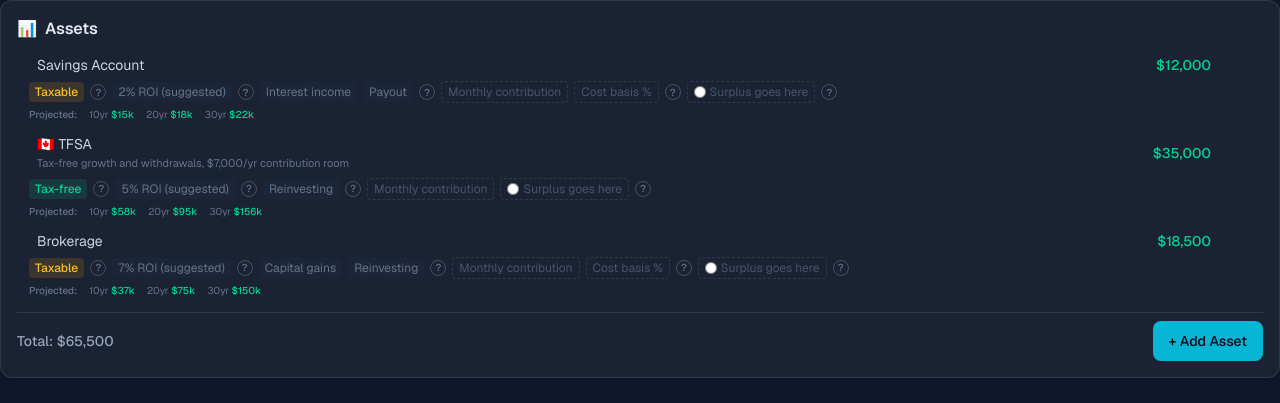
Test case: AssetEntry component › shows click-to-edit input when category is clicked
What coordinates should you click on to do the following:
click the button with aria-label "Edit category for Savings Account"
I would click on:
 (91, 65)
Its box is 29,51 -> 1095,79.
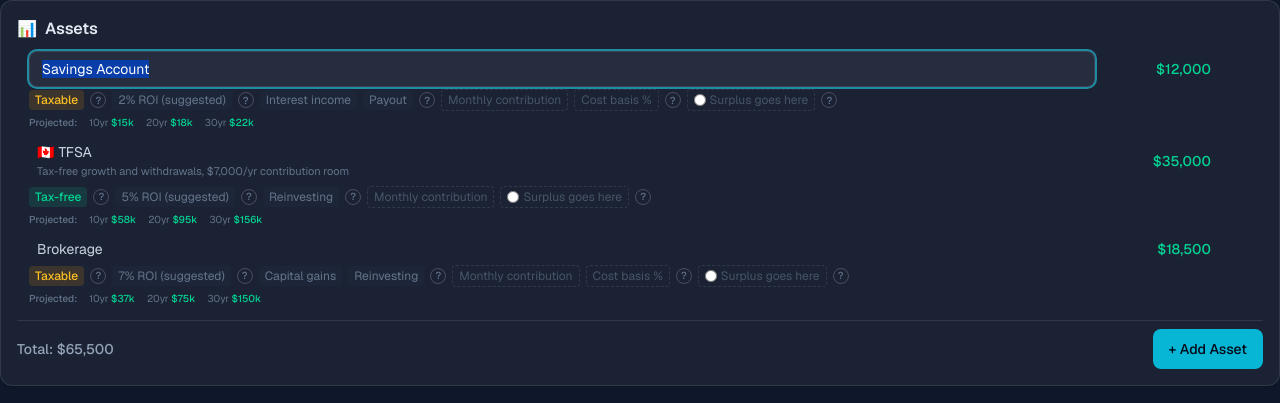
Check: the field named "Edit category name" is shown, box 29,51 -> 1095,87
